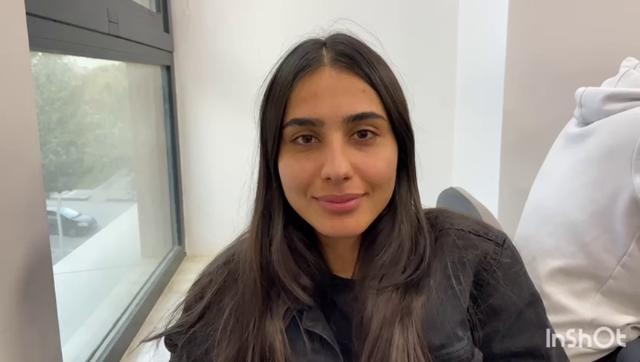senang: (277, 65, 397, 225)
